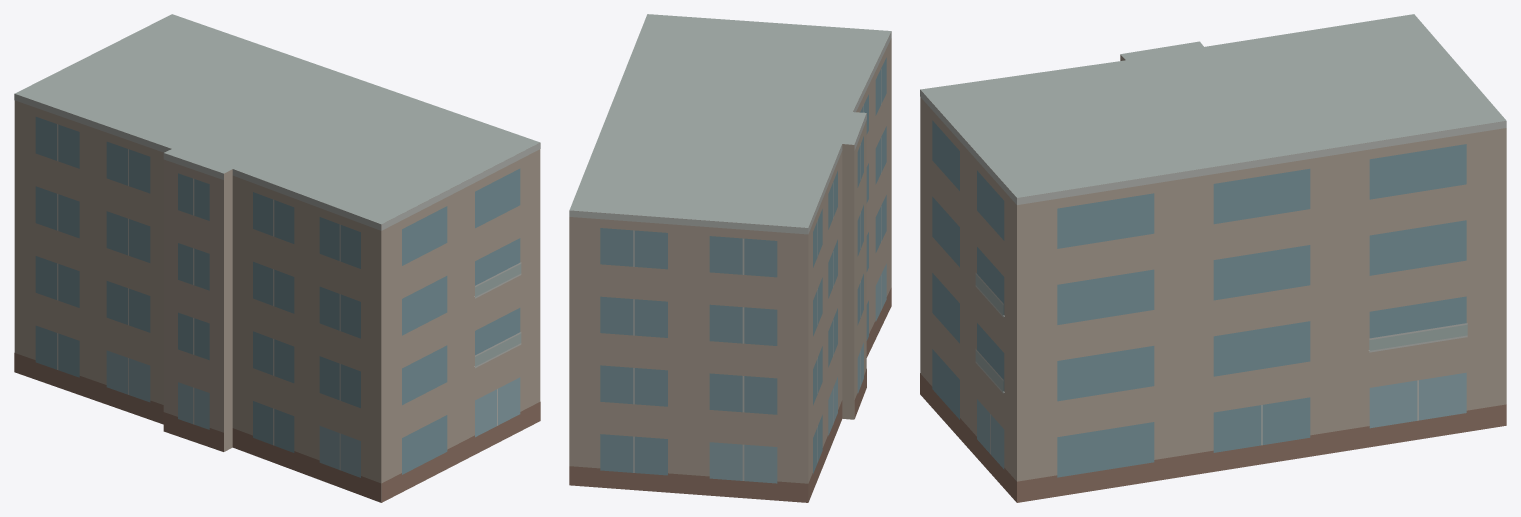
File: survey-upis-32918394.glb
The picture shows the model from 3 angles, left to right: view 1: azimuth 30°, elevation 25°; view 2: azimuth 150°, elevation 25°; view 3: azimuth 270°, elevation 25°; orthographic projection. The views are drawn at different scales.
Visible parts, largest first — view 1: survey-upis-32918394.tmp; view 2: survey-upis-32918394.tmp; view 3: survey-upis-32918394.tmp.
Part boxes in pixels (bbox=[...]): survey-upis-32918394.tmp: bbox=[14, 14, 540, 502]; survey-upis-32918394.tmp: bbox=[569, 14, 891, 502]; survey-upis-32918394.tmp: bbox=[920, 14, 1506, 502].
Size of the model in its own units: 13.47 by 10.4 by 18.14.
